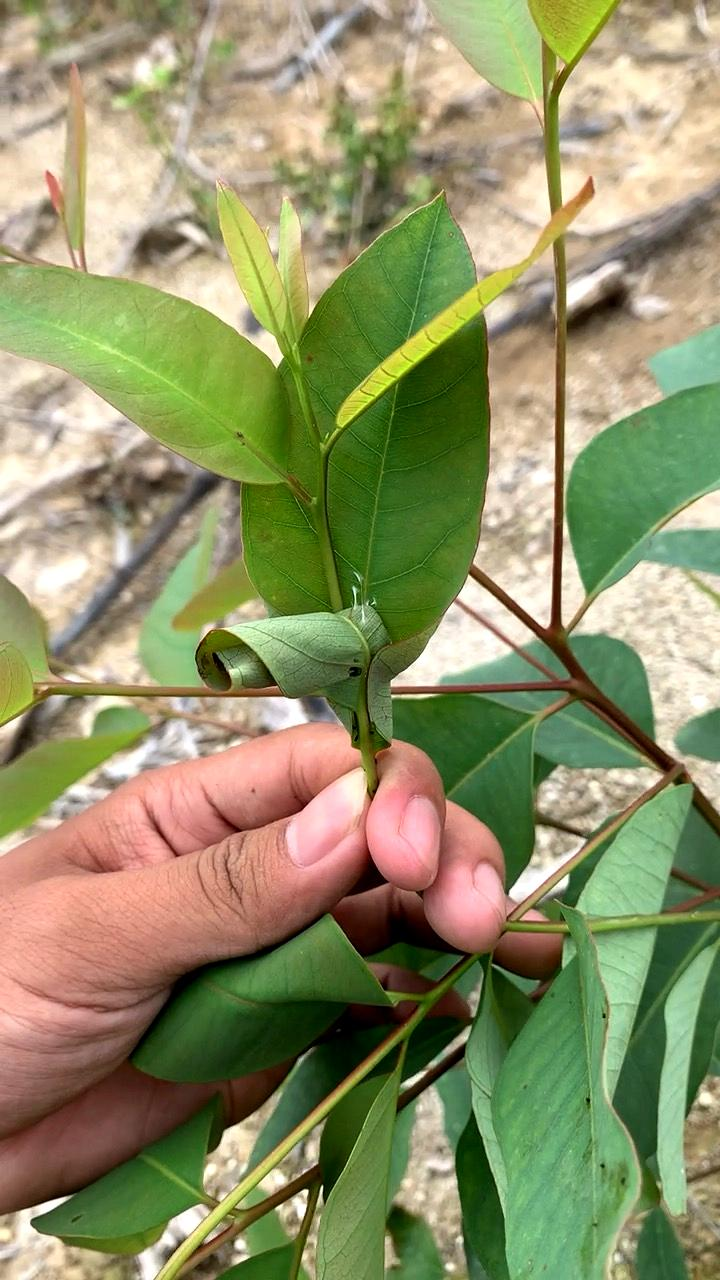Leaf Roller - Leaf: (173, 568, 430, 746)
